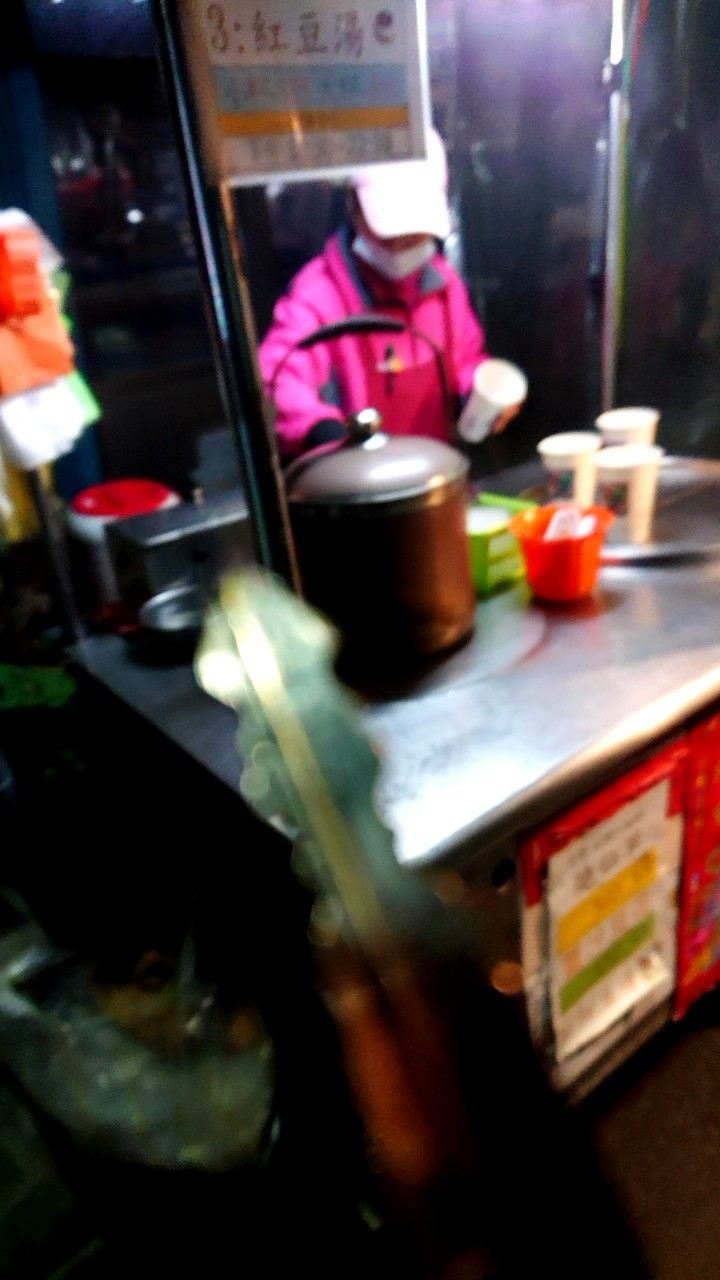people: (283, 129, 507, 508)
